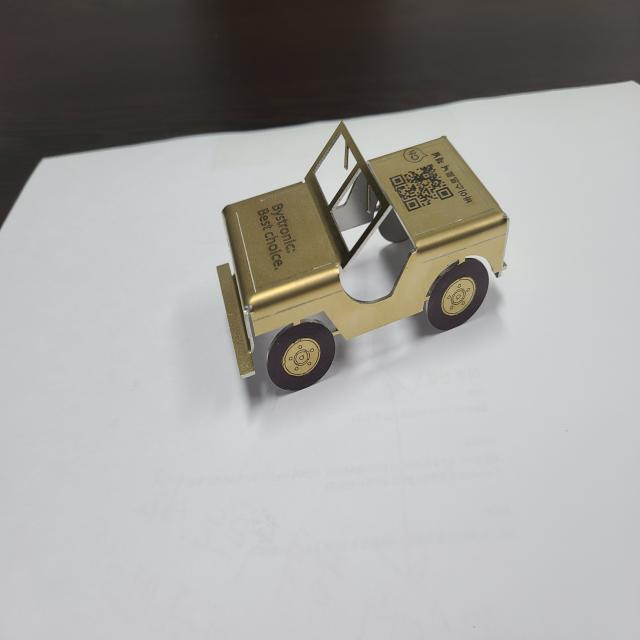tire: (268, 322, 336, 390), (427, 260, 489, 330)
